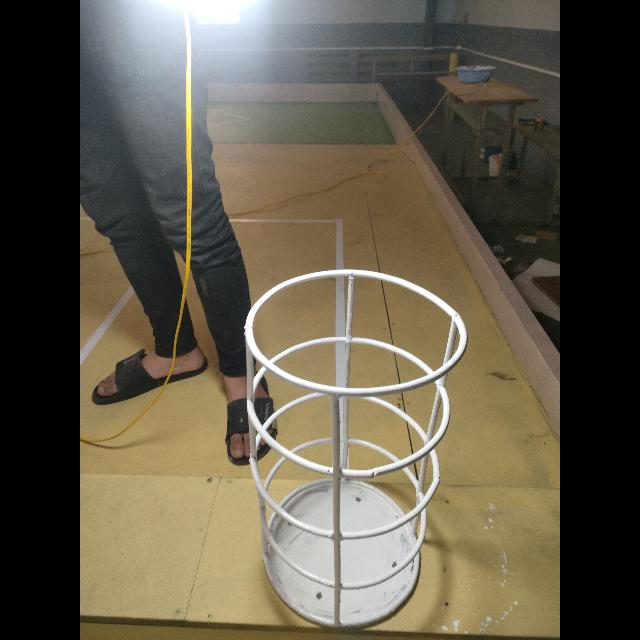S: (240, 266, 475, 633)
